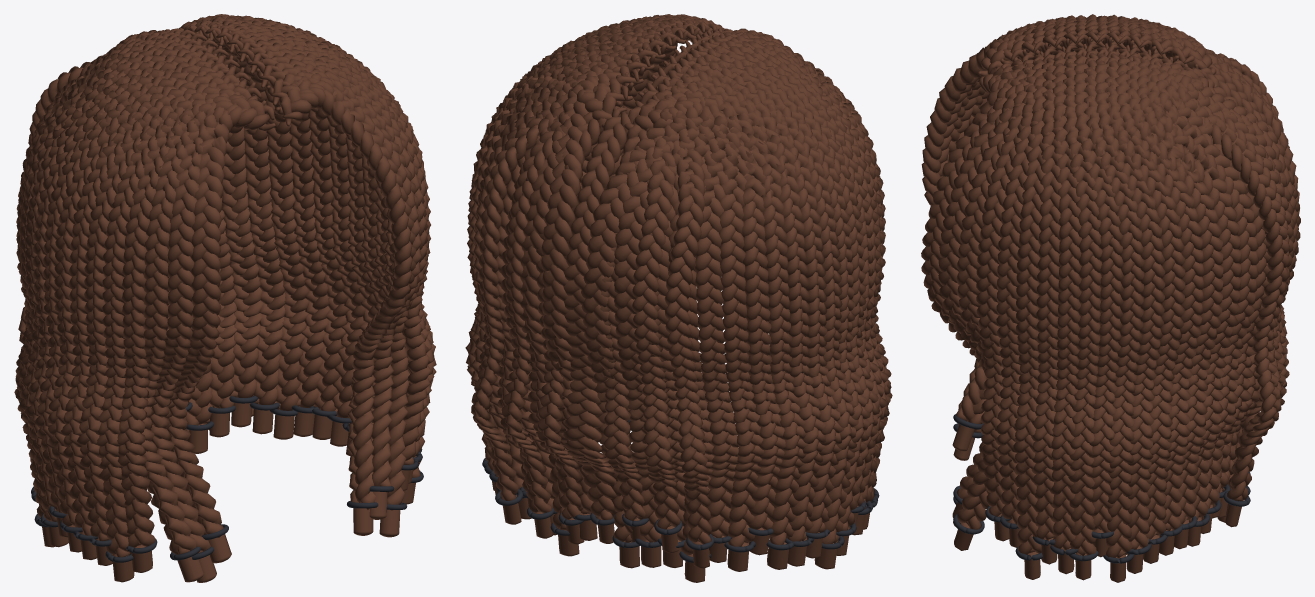
The model's file is box-braids-none-default.glb.
3 views of the same model, side by side, from view 1: azimuth 30°, elevation 25°; view 2: azimuth 150°, elevation 25°; view 3: azimuth 270°, elevation 25° (orthographic). The views are drawn at different scales.
Parts seen in each view (by area): view 1: 226 hair / Hair / chestnut226.001, 226 hair / Hair / ties226.001; view 2: 226 hair / Hair / chestnut226.001, 226 hair / Hair / ties226.001; view 3: 226 hair / Hair / chestnut226.001, 226 hair / Hair / ties226.001.
Part boxes in pixels (left/top/right/bottom): 226 hair / Hair / chestnut226.001: left=14, top=14, right=436, bottom=582; 226 hair / Hair / ties226.001: left=31, top=395, right=423, bottom=562; 226 hair / Hair / chestnut226.001: left=465, top=14, right=892, bottom=582; 226 hair / Hair / ties226.001: left=482, top=419, right=879, bottom=562; 226 hair / Hair / chestnut226.001: left=921, top=14, right=1300, bottom=582; 226 hair / Hair / ties226.001: left=953, top=414, right=1250, bottom=563.
Bounding box in the file's own units: 0.907 × 1.08 × 0.7938.
